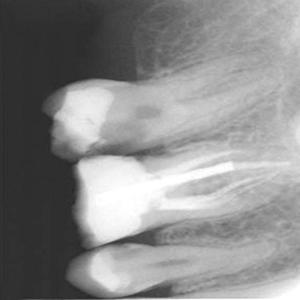tooth: (39, 57, 274, 160), (72, 154, 290, 248), (62, 241, 276, 299)
